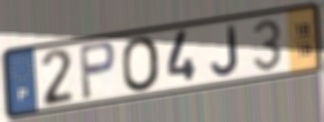2: (38, 47, 75, 109)
3: (248, 17, 284, 74)
4: (165, 27, 202, 88)
J: (210, 23, 241, 78)
O: (120, 34, 162, 93)
P: (77, 39, 118, 102)
